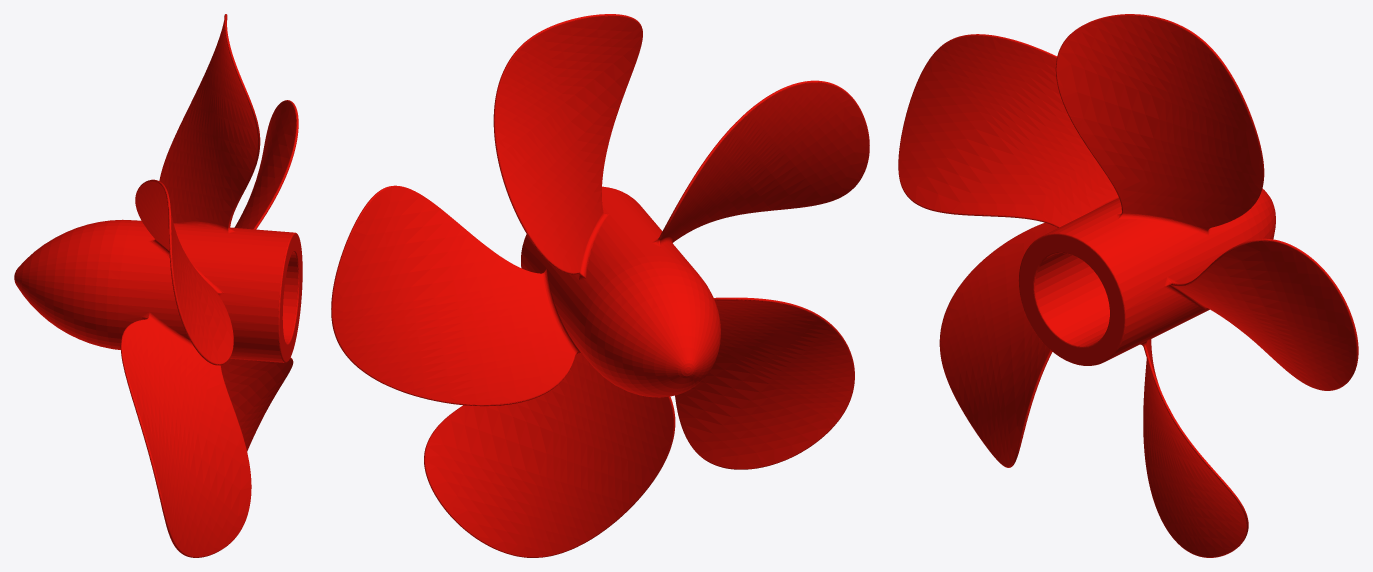
Rendered from propeller4.dae.
3 renders of one model, left to right at view 1: azimuth 30°, elevation 25°; view 2: azimuth 150°, elevation 25°; view 3: azimuth 270°, elevation 25°, orthographic. The views are drawn at different scales.
Parts seen in each view (by area): view 1: propeller_blade.004; view 2: propeller_blade.004; view 3: propeller_blade.004.
Boxes of the visible parts, box(x1,y1,x2,y2) form: propeller_blade.004: box(14, 14, 302, 557); propeller_blade.004: box(331, 14, 869, 557); propeller_blade.004: box(898, 14, 1358, 557).
Bounding box in the file's own units: 0.0354 × 0.0441 × 0.0559.
